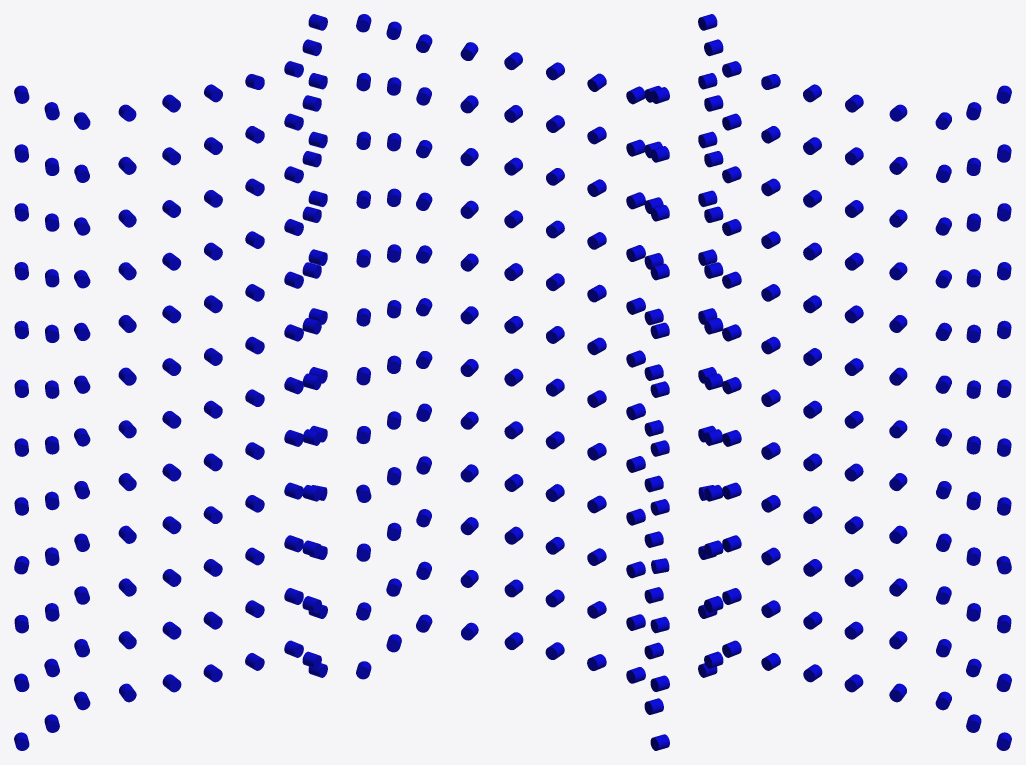
File: left_thumb_tactile_link_0.obj
3 renders of one model, left to right at view 1: azimuth 30°, elevation 25°; view 2: azimuth 150°, elevation 25°; view 3: azimuth 330°, elevation 25°, orthographic.
Bounding box in the file's own units: 0.0261 × 0.0525 × 0.00447.
